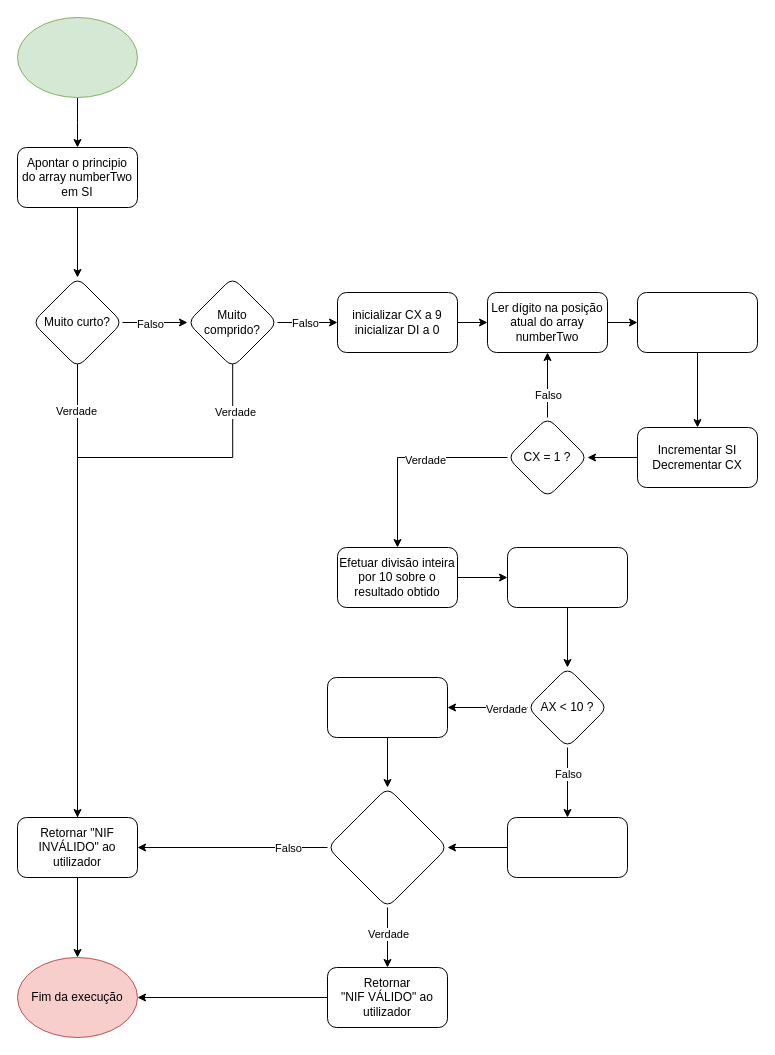
This 775x1055 diagram has some shape labels left out. Each missing label, with the centre of its shape:
Colocar 0 em AX e comparar com o ultimo dígito do NIF: (x=567, y=847)
Comparar o ultimo dígito do array numberTwo com o valor em AX: (x=387, y=707)
Início da execução: (x=77, y=57)
Multiplicar pelo valor atual de CX e acumular em DI: (x=697, y=322)
Subtrair 11 pelo resto da divisão inteira (guardar em AX): (x=567, y=577)
Ultimo dígito == AX ?: (x=387, y=847)
